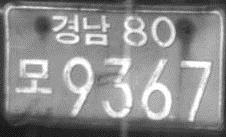0: (151, 15, 177, 49)
3: (100, 56, 134, 119)
6: (140, 56, 172, 121)
7: (177, 58, 213, 125)
8: (122, 15, 148, 47)
9: (61, 54, 95, 119)
경남_O: (50, 14, 111, 47)
모: (13, 57, 54, 95)
